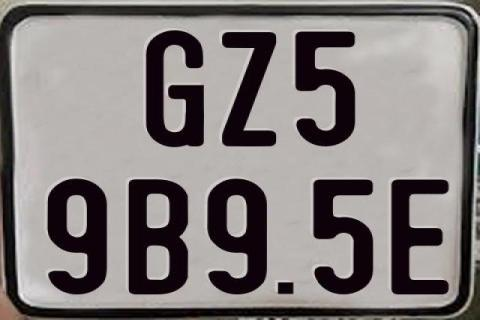0: (46, 177, 112, 293), (206, 177, 269, 297), (313, 177, 378, 293), (295, 29, 360, 144)
B: (125, 178, 185, 296)
E: (388, 177, 447, 293)
G: (146, 30, 205, 152)
Z: (222, 30, 277, 150)
